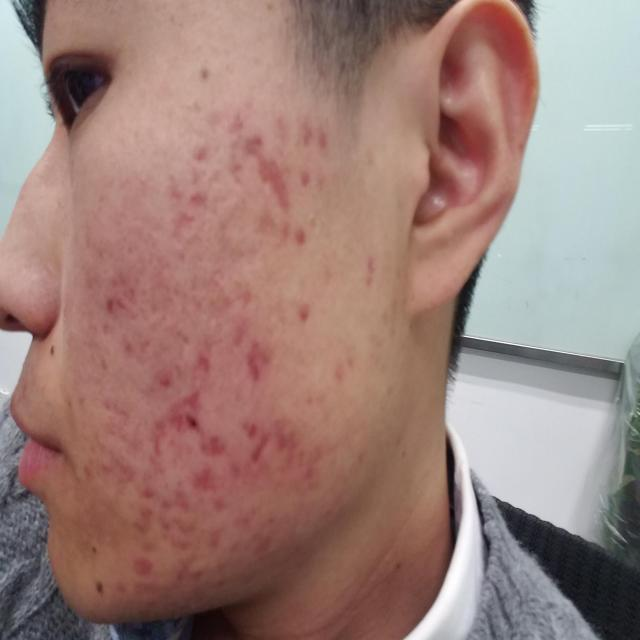Acne: (146, 346, 234, 465), (231, 114, 335, 210), (121, 466, 199, 546), (241, 410, 316, 474), (86, 540, 132, 610), (97, 379, 133, 466), (216, 532, 279, 566), (237, 328, 275, 380), (196, 474, 228, 522), (134, 556, 172, 596), (190, 50, 218, 104), (174, 189, 210, 228), (103, 292, 139, 328), (290, 224, 320, 266), (228, 268, 256, 304), (364, 254, 384, 302), (186, 144, 214, 178), (290, 292, 313, 329), (332, 350, 350, 390), (42, 341, 65, 366), (121, 341, 140, 369)
